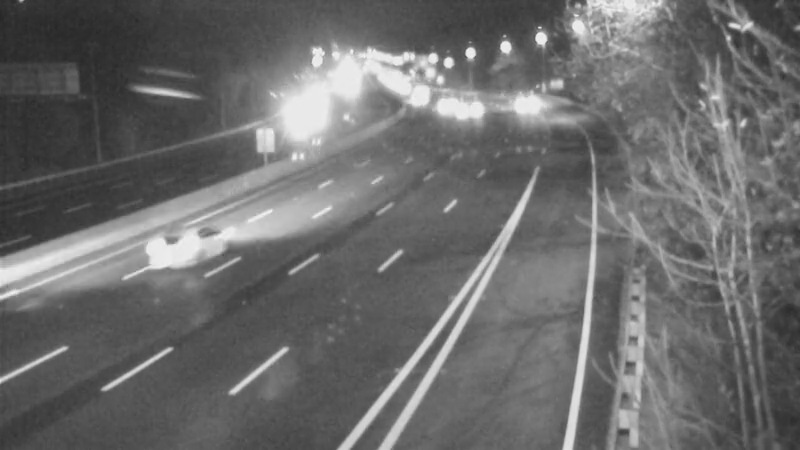vehicle: (138, 206, 218, 286), (496, 76, 546, 126), (394, 74, 444, 124), (418, 81, 468, 131), (440, 78, 490, 128)
